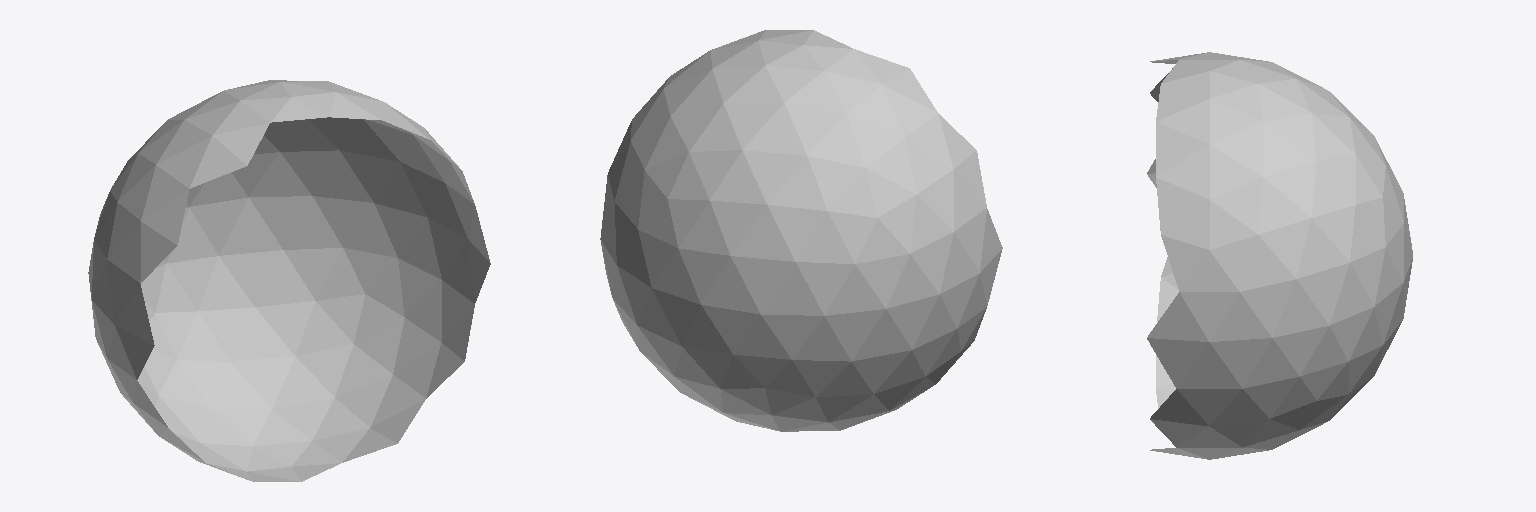
File: button.obj
The picture shows the model from 3 angles: view 1: azimuth 30°, elevation 25°; view 2: azimuth 150°, elevation 25°; view 3: azimuth 270°, elevation 25°; orthographic projection.
Parts seen in each view (by area): view 1: Icosphere; view 2: Icosphere; view 3: Icosphere.
Part boxes in pixels (bbox=[...]): Icosphere: bbox=[88, 80, 490, 481]; Icosphere: bbox=[600, 30, 1002, 431]; Icosphere: bbox=[1147, 52, 1412, 459].
Size of the model in its own units: 2 by 2 by 1.31.